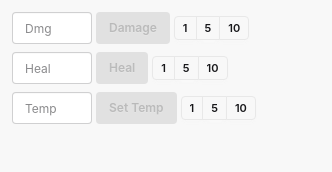
HpControls › temp HP input and submit › clears input after successful submit
Type "4" into the number field with test id "temp-hp-input" at (52, 108), box left=12, top=92, right=92, bottom=124
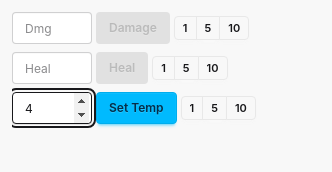
Click the button with test id "set-temp-hp-btn" at (136, 108), box left=96, top=92, right=176, bottom=124
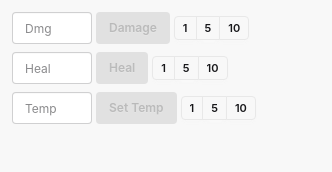
Now the number field with test id "temp-hp-input" is not empty, box left=12, top=92, right=92, bottom=124
